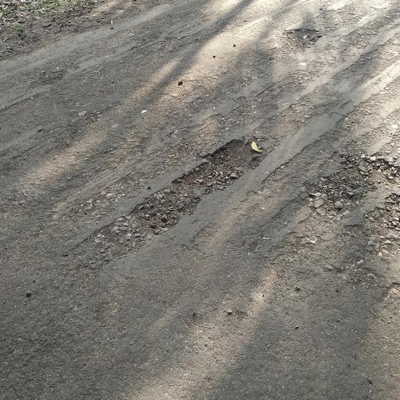pothole: (130, 135, 274, 237), (304, 152, 400, 219), (363, 192, 400, 234), (281, 25, 325, 57)
